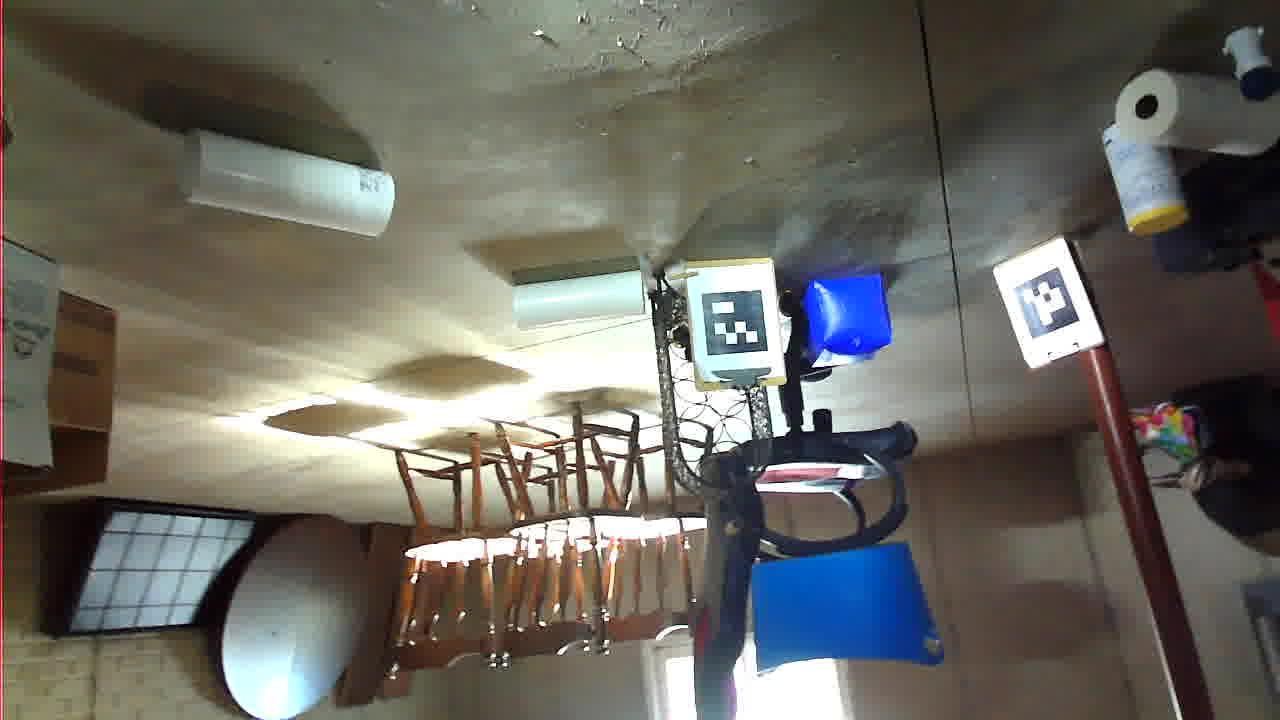coral: (883, 485, 1101, 589), (637, 393, 770, 447)
